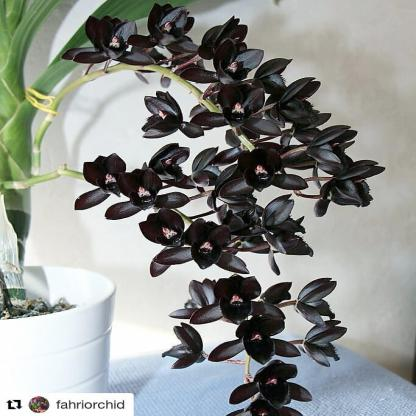ANGGREK: (51, 16, 391, 410)
